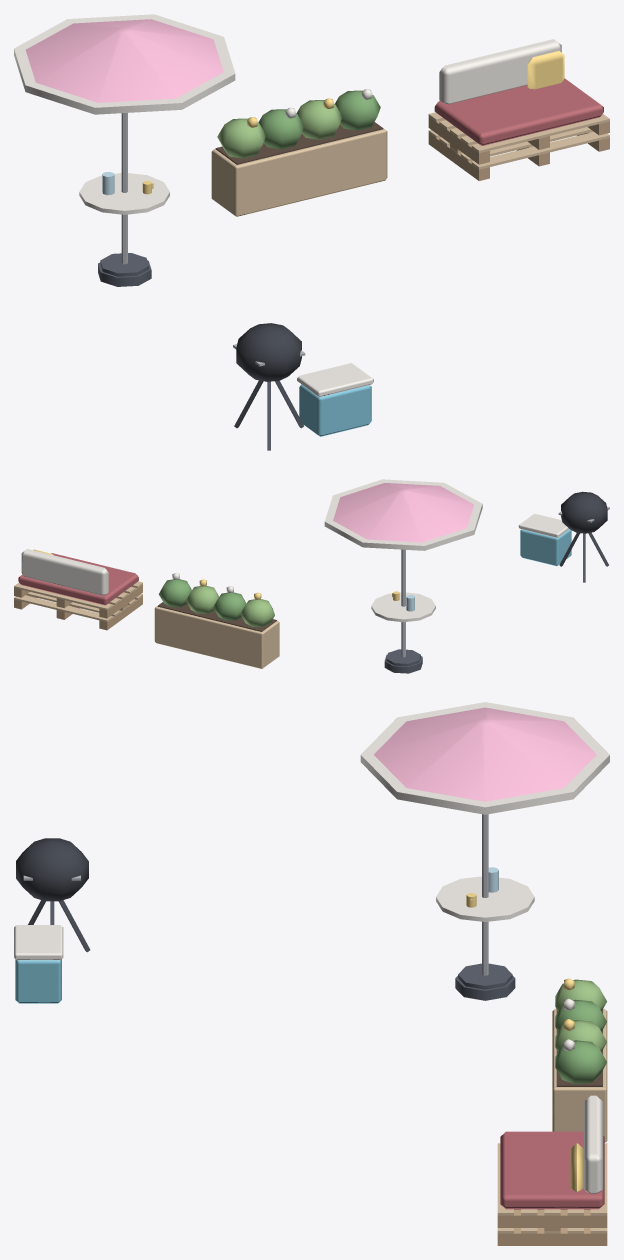
File: einrichtung_dach_buehne.glb
The picture shows the model from 3 angles, top to bottom: view 1: azimuth 30°, elevation 25°; view 2: azimuth 150°, elevation 25°; view 3: azimuth 270°, elevation 25°; orthographic projection. The views are drawn at different scales.
Parts seen in each view (by area): view 1: einrichtung_dach_buehne; view 2: einrichtung_dach_buehne; view 3: einrichtung_dach_buehne.
Boxes of the visible parts, x1,y1,x2,y2 form: einrichtung_dach_buehne: (14, 14, 609, 450); einrichtung_dach_buehne: (14, 479, 609, 673); einrichtung_dach_buehne: (14, 702, 609, 1245).
Bounding box in the file's own units: 5.41 × 2.16 × 4.35.
